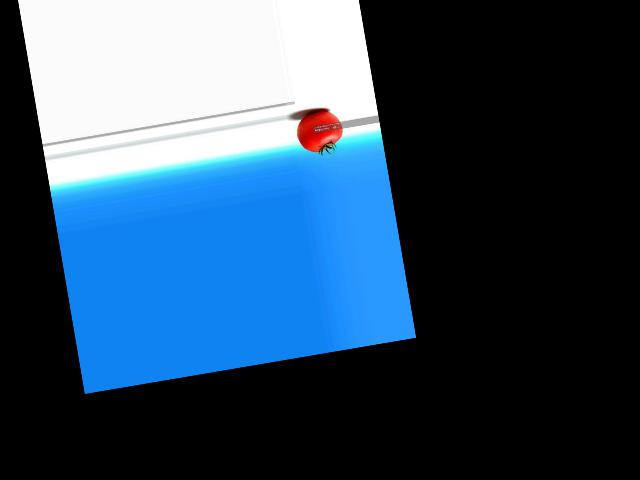tomato: (294, 108, 346, 154)
